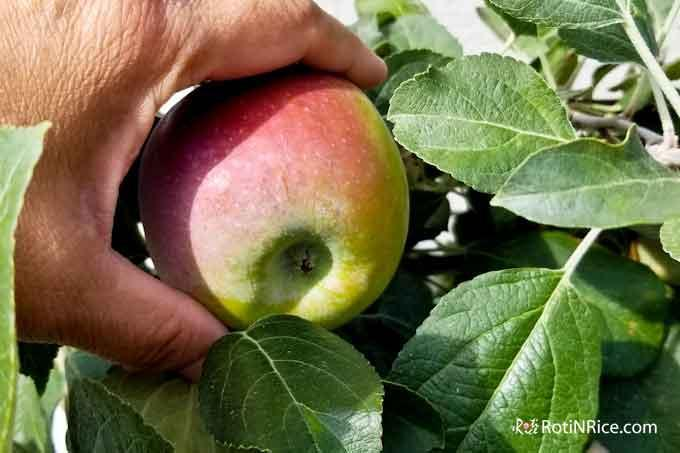apple: (130, 75, 407, 334)
